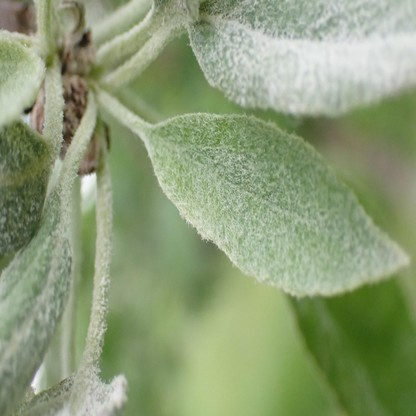powder: (146, 113, 410, 297), (183, 0, 416, 115), (0, 195, 73, 416), (0, 120, 56, 252), (10, 370, 130, 416), (0, 31, 47, 118)
